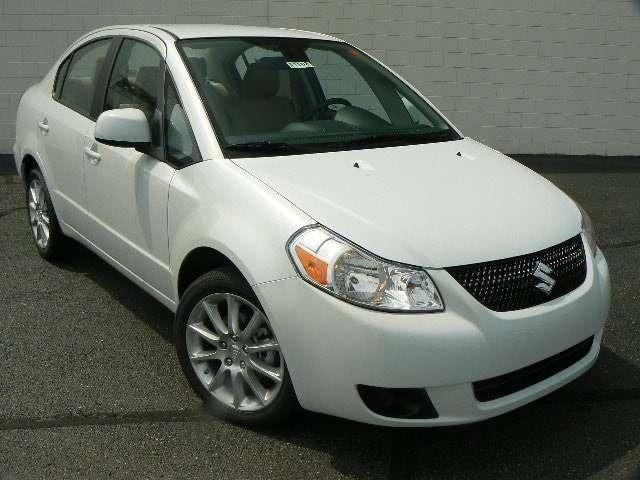suzuki: (526, 260, 560, 297)
